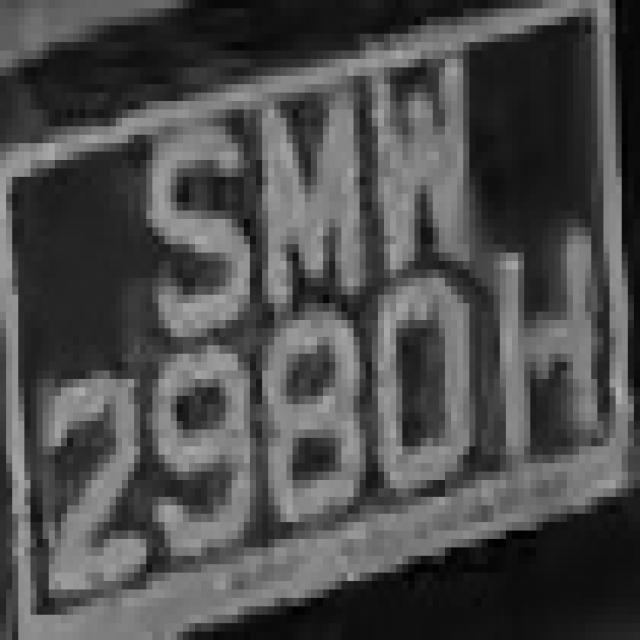0: (366, 278, 482, 514)
2: (24, 353, 152, 614)
8: (244, 303, 366, 531)
9: (140, 312, 262, 556)
H: (488, 202, 616, 480)
M: (238, 68, 378, 328)
S: (140, 101, 256, 354)
W: (354, 25, 482, 278)
